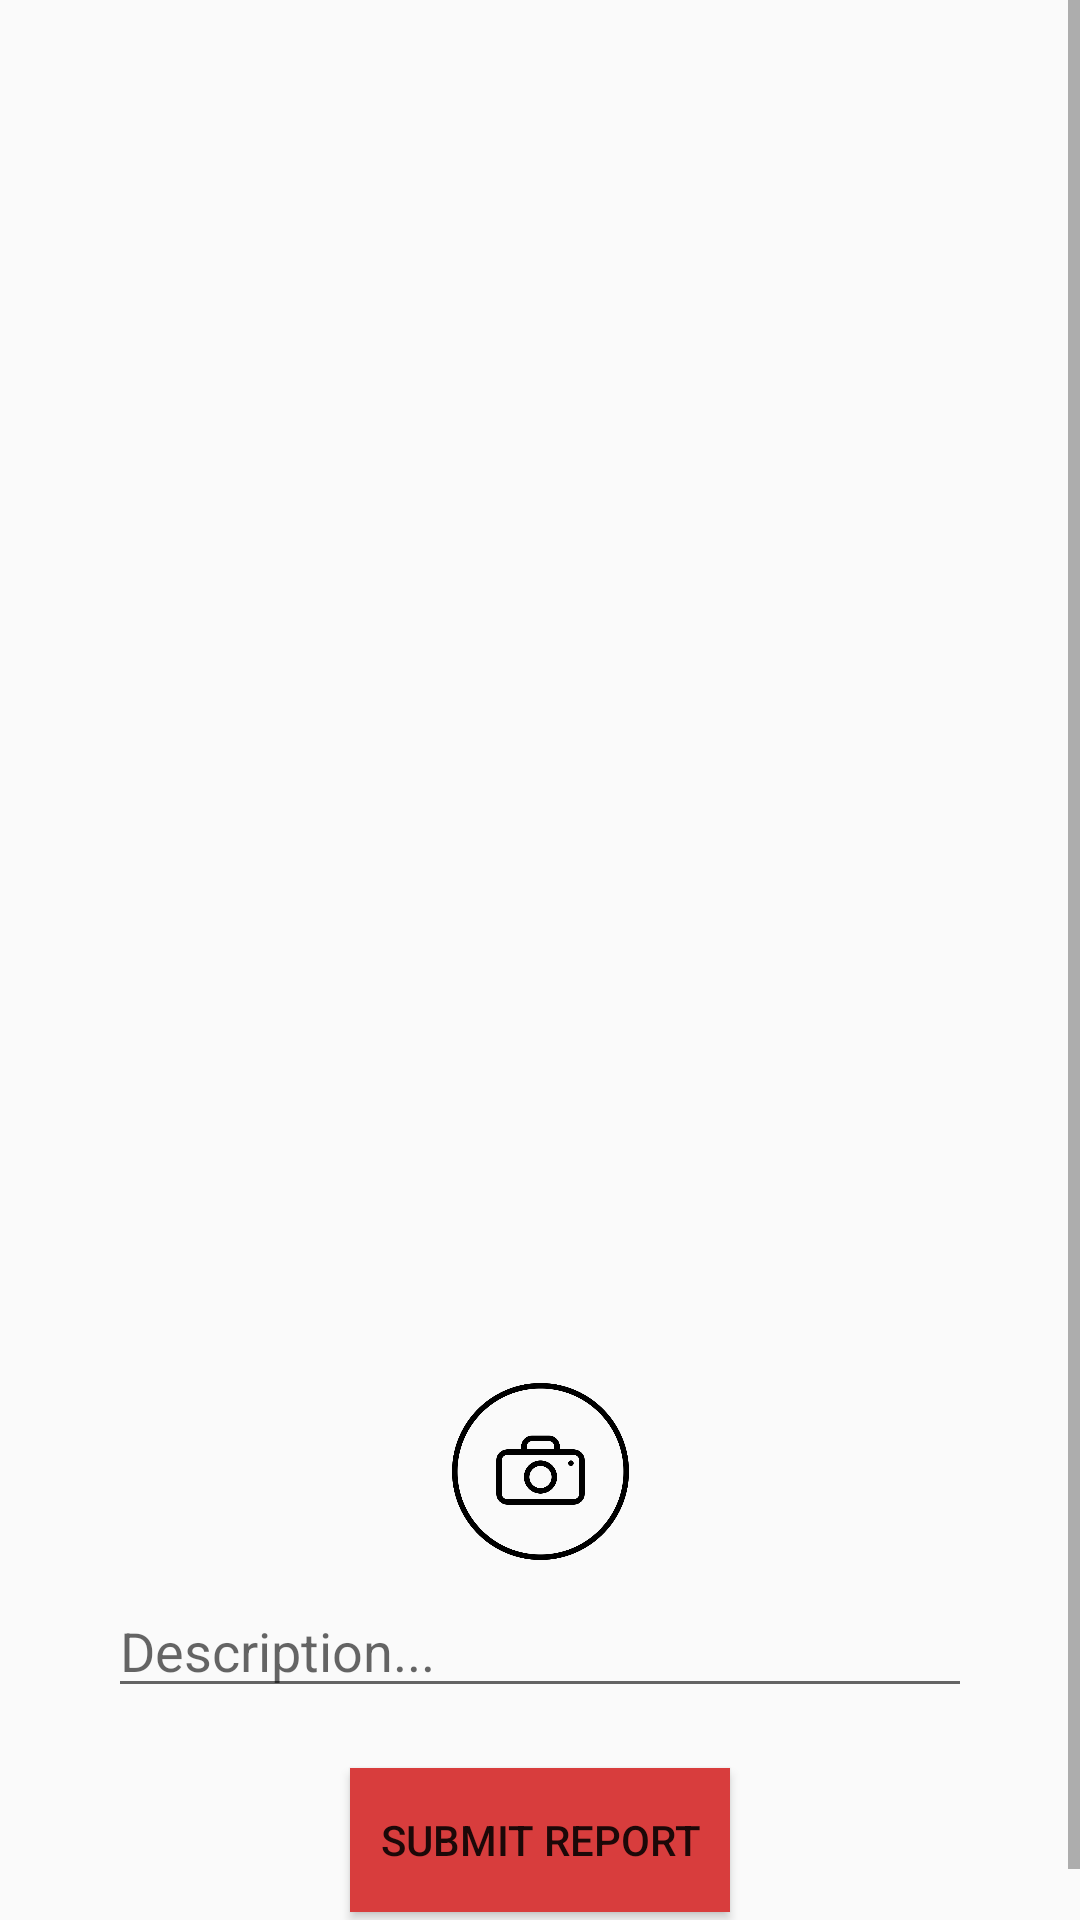

Icons on this 1080 x 1920 Android screen, each with its box as [x1,y1,x2,y2]:
camerabtn: [452,1383,629,1560]
